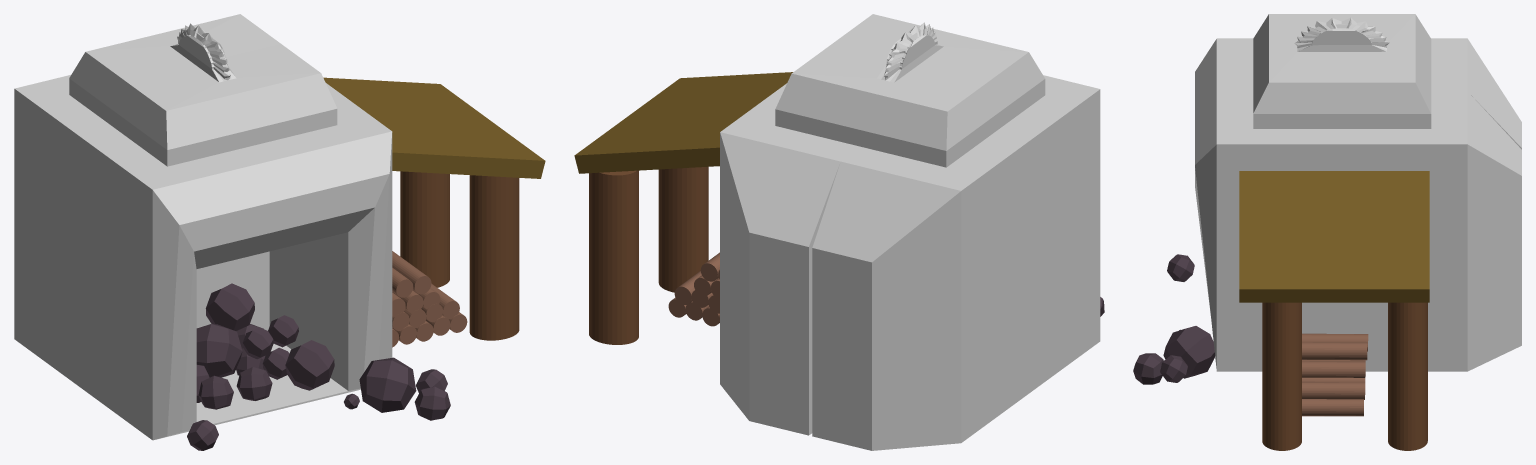
File: MineShaft_1.fbx
3 renders of one model, left to right at view 1: azimuth 30°, elevation 25°; view 2: azimuth 150°, elevation 25°; view 3: azimuth 270°, elevation 25°, orthographic. The views are drawn at different scales.
Visible parts, largest first — view 1: Cube, Cube.001, Cylinder.018, Cylinder.001, Cube.016, Cube.007, Cube.010, Cube.015, Cube.012, Cube.019, Cube.011, Cube.017 (+4 smaller); view 2: Cube, Cube.001, Cylinder.001, Cylinder.018; view 3: Cube, Cube.001, Cylinder.001, Cylinder.018, Cube.016, Cylinder.016, Cylinder.012, Cylinder.007, Cylinder.015, Cube.019, Cylinder.017, Cube.017 (+1 smaller).
Part boxes in pixels (x1=…): Cube: x1=14, y1=14, x2=392, y2=440; Cube.001: x1=323, y1=77, x2=545, y2=178; Cylinder.018: x1=469, y1=175, x2=519, y2=340; Cylinder.001: x1=400, y1=171, x2=449, y2=287; Cube.016: x1=359, y1=357, x2=416, y2=412; Cube.007: x1=196, y1=324, x2=242, y2=377; Cube.010: x1=285, y1=340, x2=334, y2=390; Cube.015: x1=205, y1=283, x2=254, y2=331; Cube.012: x1=236, y1=367, x2=272, y2=400; Cube.019: x1=414, y1=386, x2=450, y2=420; Cube.011: x1=198, y1=375, x2=233, y2=409; Cube.017: x1=187, y1=420, x2=218, y2=450; Cube: x1=720, y1=14, x2=1100, y2=450; Cube.001: x1=574, y1=72, x2=792, y2=173; Cylinder.001: x1=589, y1=170, x2=638, y2=344; Cylinder.018: x1=658, y1=166, x2=708, y2=292; Cube: x1=1195, y1=14, x2=1521, y2=371; Cube.001: x1=1239, y1=171, x2=1429, y2=302; Cylinder.001: x1=1388, y1=302, x2=1427, y2=450; Cylinder.018: x1=1262, y1=302, x2=1301, y2=450; Cube.016: x1=1163, y1=326, x2=1214, y2=378; Cylinder.016: x1=1302, y1=342, x2=1367, y2=360; Cylinder.012: x1=1302, y1=382, x2=1365, y2=399; Cylinder.007: x1=1302, y1=399, x2=1363, y2=416; Cylinder.015: x1=1302, y1=361, x2=1365, y2=377; Cube.019: x1=1133, y1=353, x2=1163, y2=384; Cylinder.017: x1=1302, y1=333, x2=1368, y2=351; Cube.017: x1=1167, y1=254, x2=1194, y2=281.
Bounding box in the file's own units: 338 × 276 × 310.
